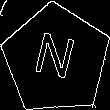N_S: (31, 30, 81, 89)
